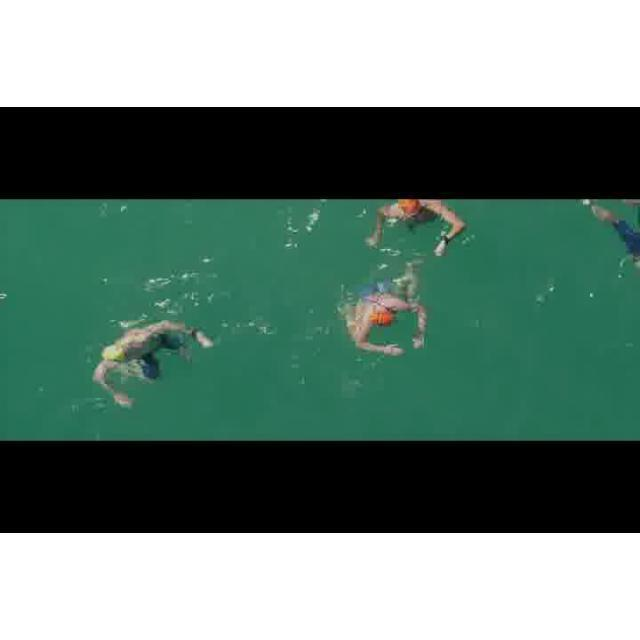human: (93, 314, 218, 412), (336, 260, 431, 362), (356, 197, 469, 257)
